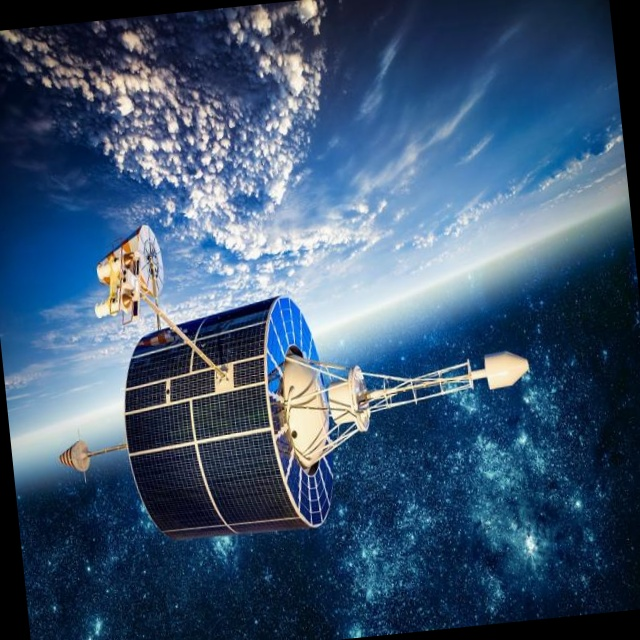satellite: (21, 165, 566, 578)
